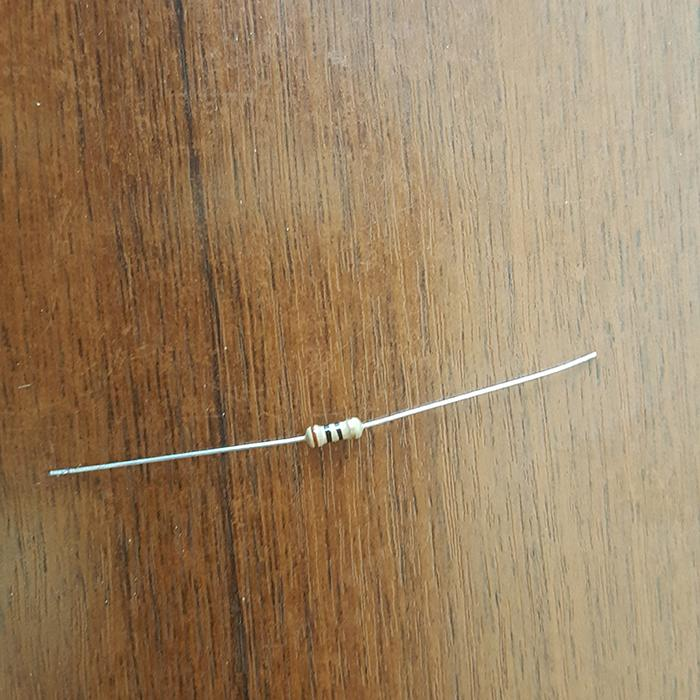resistor: (305, 416, 363, 448)
